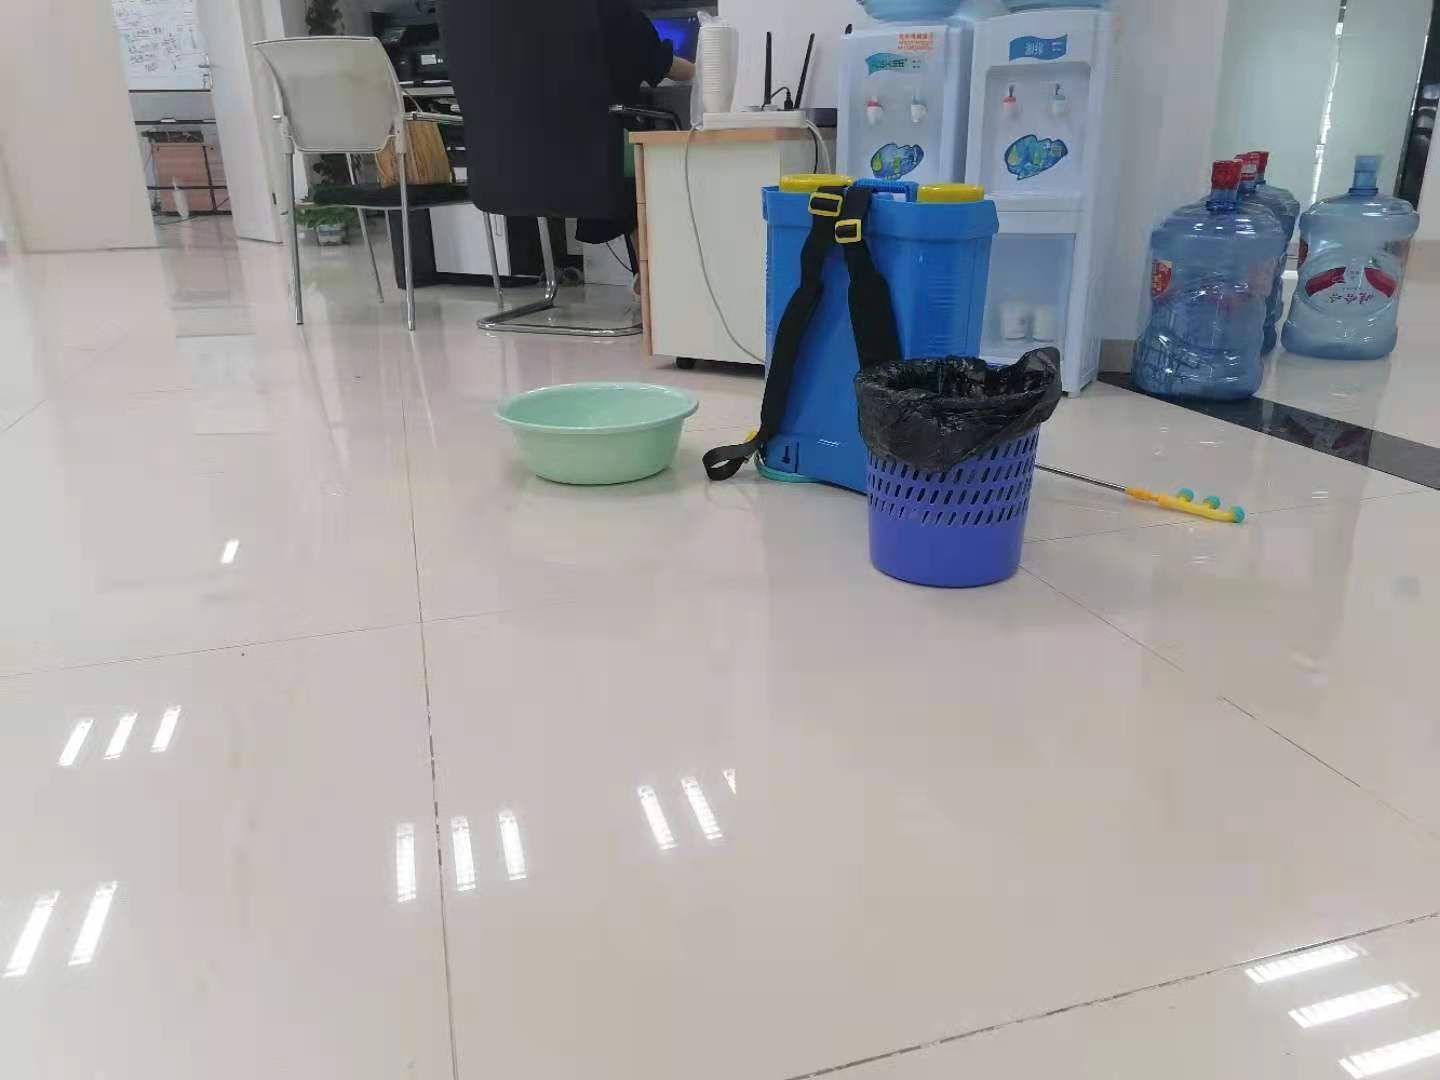berrl: (754, 171, 996, 503)
